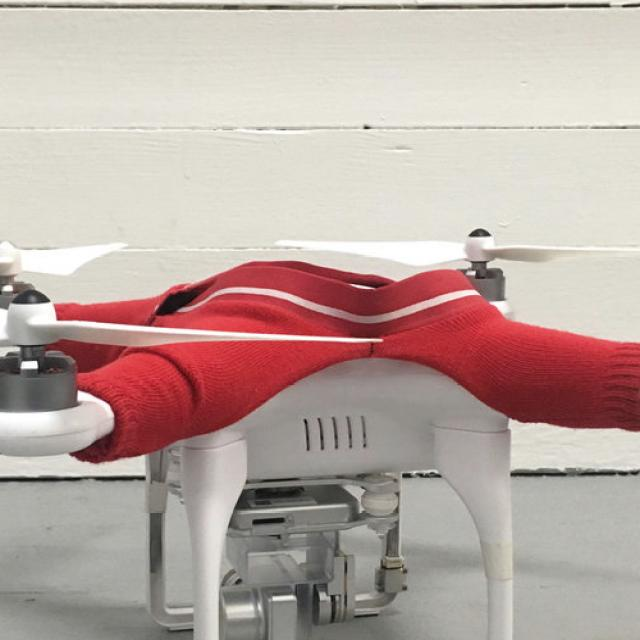drone: (0, 216, 640, 496)
